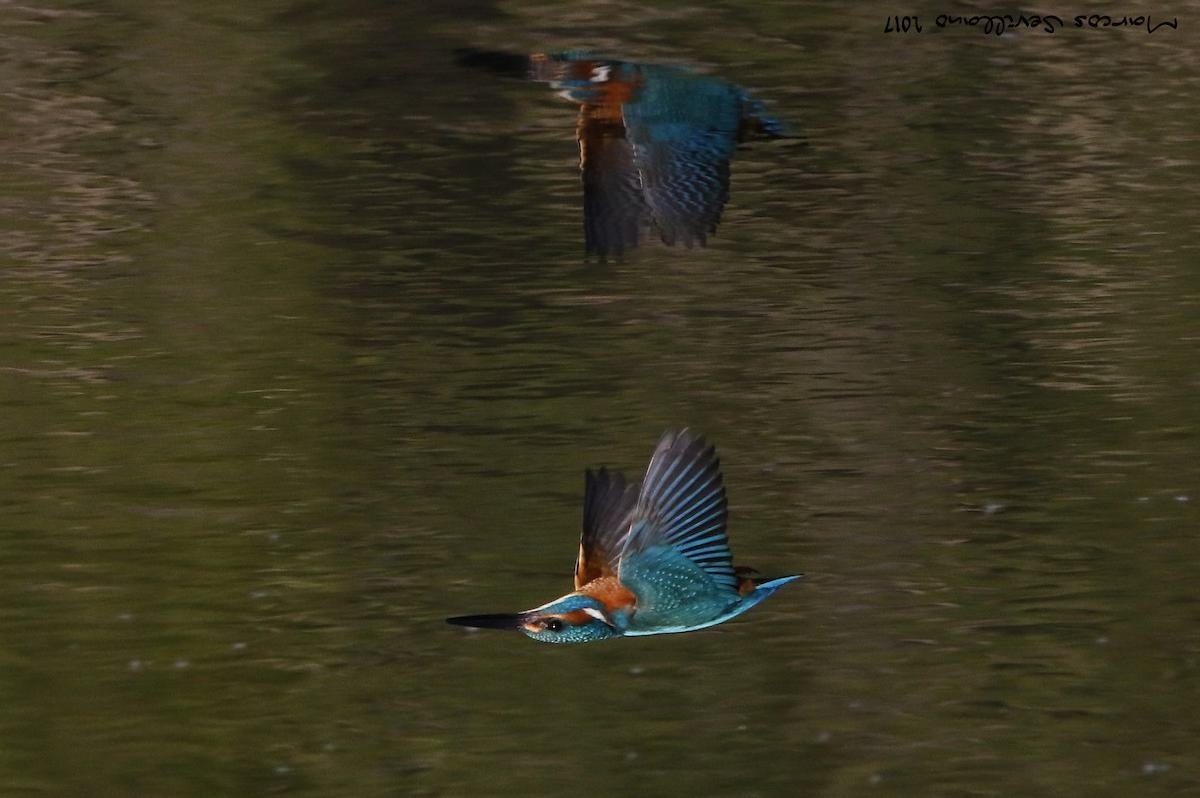kingfisher: (431, 433, 785, 677), (519, 51, 793, 269)
